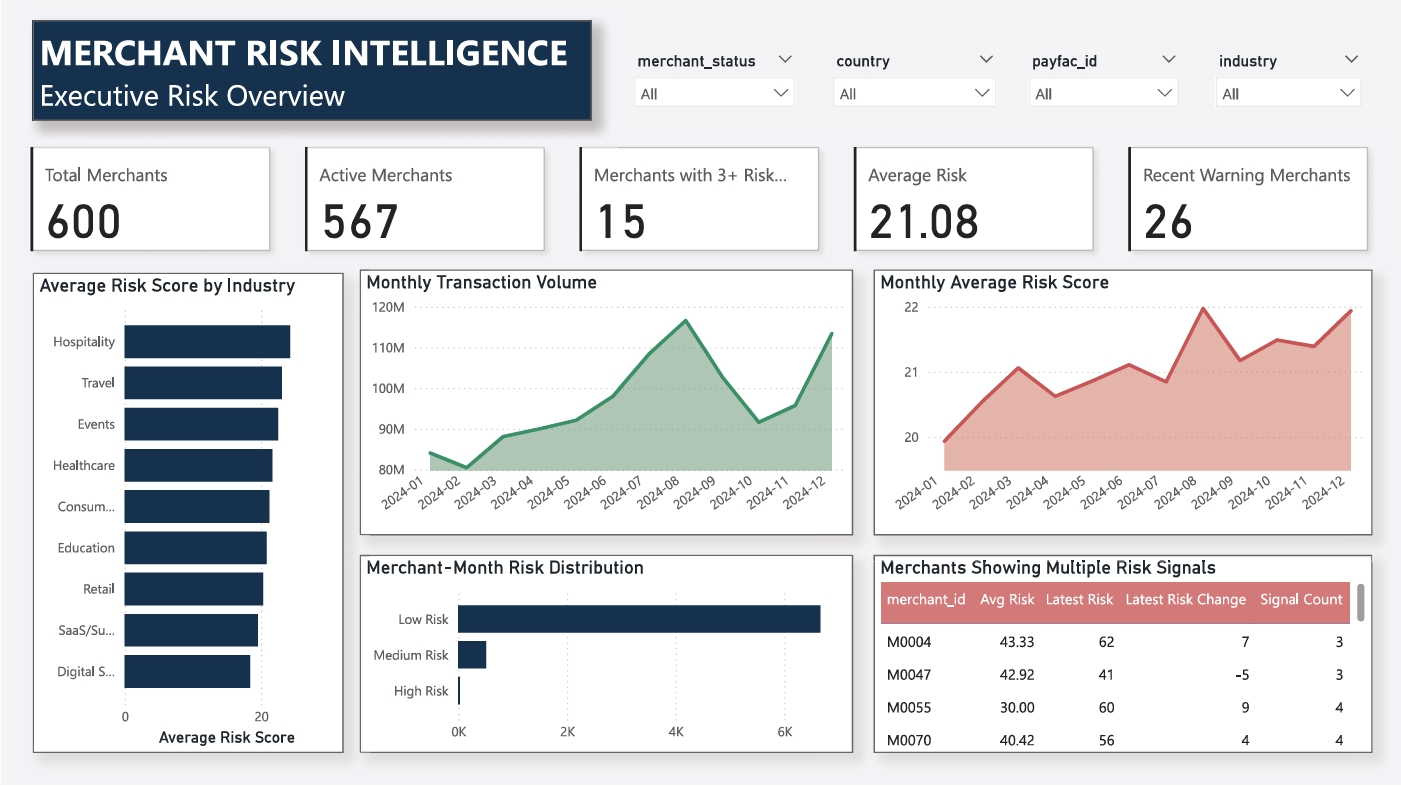

This screenshot's page, from the dashboard's own definition file:
{"tool":"powerbi","page":{"name":"Executive Risk Overview","canvas":[1280,720],"ordinal":0},"visuals":[{"type":"textbox","box":[29.4,20.9,510.4,92],"z":0},{"type":"cardVisual","fields":{"Data":["merchant_risk_intelligence merchants.Total Merchants","merchant_risk_intelligence merchants.Active Merchants","Merchant Signal Summary.Merchants with 3+ Risk Signals","merchant_risk_intelligence merchant_risk.Average Risk Score","merchant_risk_intelligence merchant_risk.Recent Risk Signal Merchants"]},"box":[9.8,120.2,1261.4,128.8],"z":1000},{"type":"areaChart","title":"Monthly Transaction Volume","fields":{"Category":["merchant_risk_intelligence monthly_transactions.month"],"Y":["Sum(merchant_risk_intelligence monthly_transactions.transaction_volume)"]},"box":[327.6,249.1,451.5,242.9],"z":2000},{"type":"clusteredBarChart","title":"Merchant-Month Risk Distribution","fields":{"Category":["merchant_risk_intelligence merchant_risk.Monthly Risk Band"],"Y":["CountNonNull(merchant_risk_intelligence merchant_risk.merchant_id)"]},"box":[327.6,510.4,451.5,180.4],"z":3000},{"type":"tableEx","title":"Merchants Showing Multiple Risk Signals","fields":{"Values":["Merchant Signal Summary.merchant_id","Merchant Signal Summary.Avg Risk","Merchant Signal Summary.Latest Risk","Merchant Signal Summary.Latest Risk Change","Merchant Signal Summary.Signal Count"]},"box":[797.6,510.4,456.4,180.4],"z":4000},{"type":"areaChart","title":"Monthly Average Risk Score","fields":{"Category":["merchant_risk_intelligence merchant_risk.month"],"Y":["merchant_risk_intelligence merchant_risk.Average Risk Score"]},"box":[797.6,249.1,456.4,242.9],"z":5000},{"type":"clusteredBarChart","title":"Average Risk Score by Industry","fields":{"Y":["merchant_risk_intelligence merchant_risk.Average Risk Score"],"Category":["merchant_risk_intelligence merchants.industry"]},"box":[29.4,251.5,283.4,439.3],"z":6000},{"type":"slicer","fields":{"Values":["merchant_risk_intelligence merchants.merchant_status"]},"box":[569.3,45.4,166.9,67.5],"z":7000},{"type":"slicer","fields":{"Values":["merchant_risk_intelligence merchants.country"]},"box":[750.9,45.4,169.3,67.5],"z":8000},{"type":"slicer","fields":{"Values":["merchant_risk_intelligence merchants.payfac_id"]},"box":[930.1,45.4,157.1,67.5],"z":9000},{"type":"slicer","fields":{"Values":["merchant_risk_intelligence merchants.industry"]},"box":[1100.6,45.4,153.4,67.5],"z":10000}]}

Visuals, with their boxes in screenshot pixels (x1, y1, x2, y2), scaled from the page's 1280x720 canvas onto the 1401x788 screenshot:
textbox: <region>32, 23, 591, 124</region>
cardVisual - merchant_risk_intelligence merchants.Total Merchants x merchant_risk_intelligence merchants.Active Merchants: <region>11, 132, 1391, 273</region>
"Monthly Transaction Volume" areaChart: <region>359, 273, 853, 538</region>
"Merchant-Month Risk Distribution" clusteredBarChart: <region>359, 559, 853, 756</region>
"Merchants Showing Multiple Risk Signals" tableEx: <region>873, 559, 1373, 756</region>
"Monthly Average Risk Score" areaChart: <region>873, 273, 1373, 538</region>
"Average Risk Score by Industry" clusteredBarChart: <region>32, 275, 342, 756</region>
slicer - merchant_risk_intelligence merchants.merchant_status: <region>623, 50, 806, 124</region>
slicer - merchant_risk_intelligence merchants.country: <region>822, 50, 1007, 124</region>
slicer - merchant_risk_intelligence merchants.payfac_id: <region>1018, 50, 1190, 124</region>
slicer - merchant_risk_intelligence merchants.industry: <region>1205, 50, 1373, 124</region>
